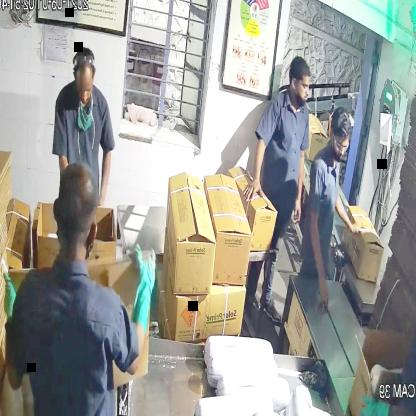goggles: (327, 134, 354, 159)
